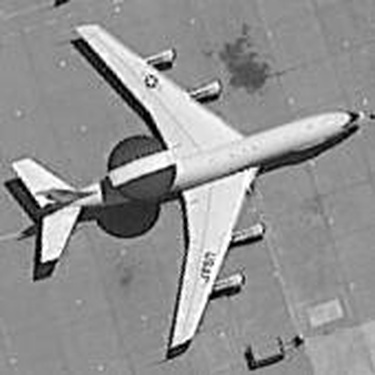airplane: (4, 15, 364, 361)
